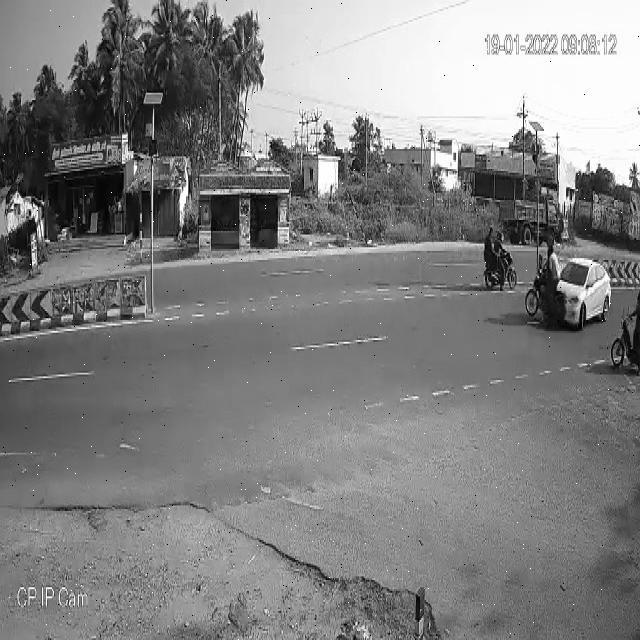accident: (525, 243, 613, 334)
